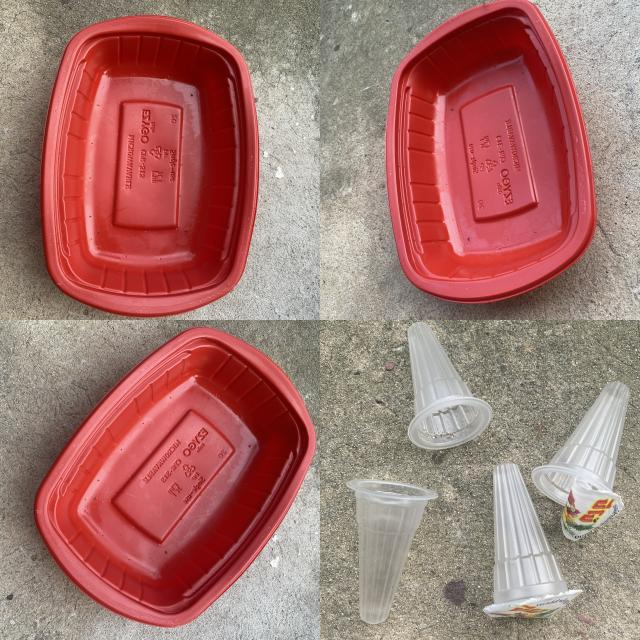Single-Use-Plastic: (35, 328, 315, 627), (41, 16, 259, 316), (386, 0, 596, 302), (532, 382, 629, 540), (484, 462, 581, 618), (346, 480, 436, 623), (408, 322, 491, 448)
